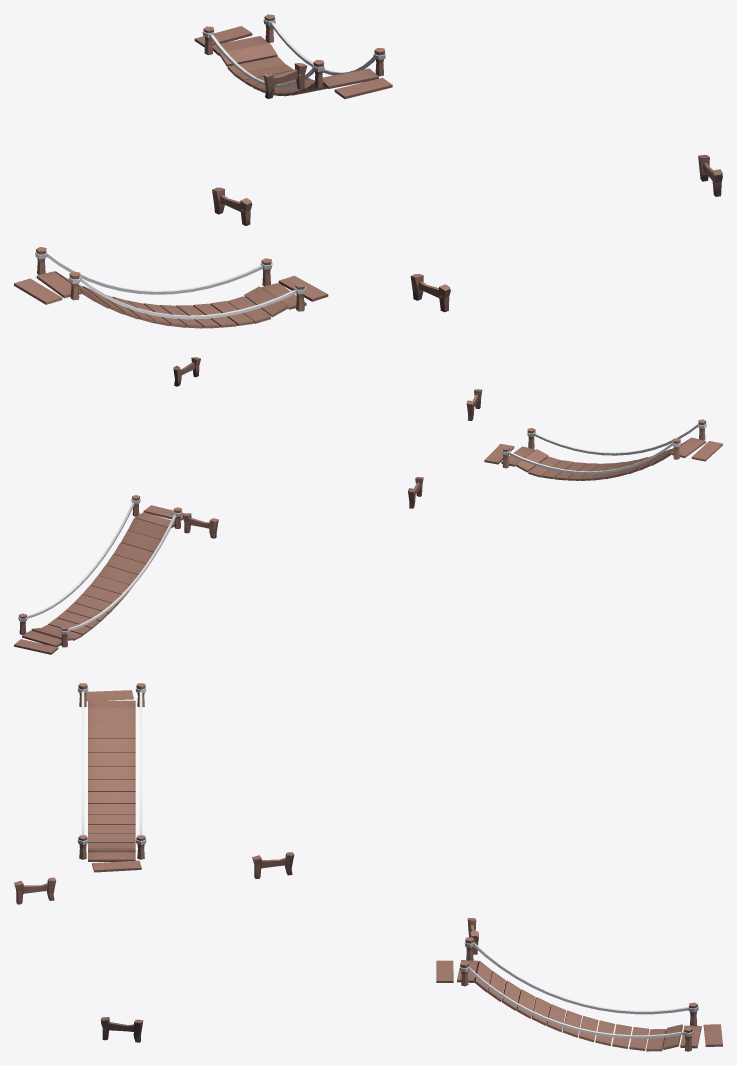
File: Wood_02.FBX
3 views of the same model, one above another, from view 1: azimuth 30°, elevation 25°; view 2: azimuth 150°, elevation 25°; view 3: azimuth 270°, elevation 25° (orthographic). The views are drawn at different scales.
Parts seen in each view (by area): view 1: Wood_02; view 2: Wood_02; view 3: Wood_02.
Part boxes in pixels (bbox=[...]): Wood_02: bbox=[14, 14, 722, 328]; Wood_02: bbox=[14, 357, 722, 654]; Wood_02: bbox=[14, 683, 722, 1051].
Bounding box in the file's own units: 29.05 × 6.48 × 29.62.
